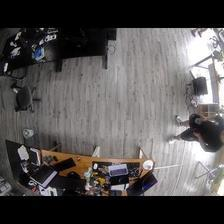normal: (167, 116, 224, 150)
